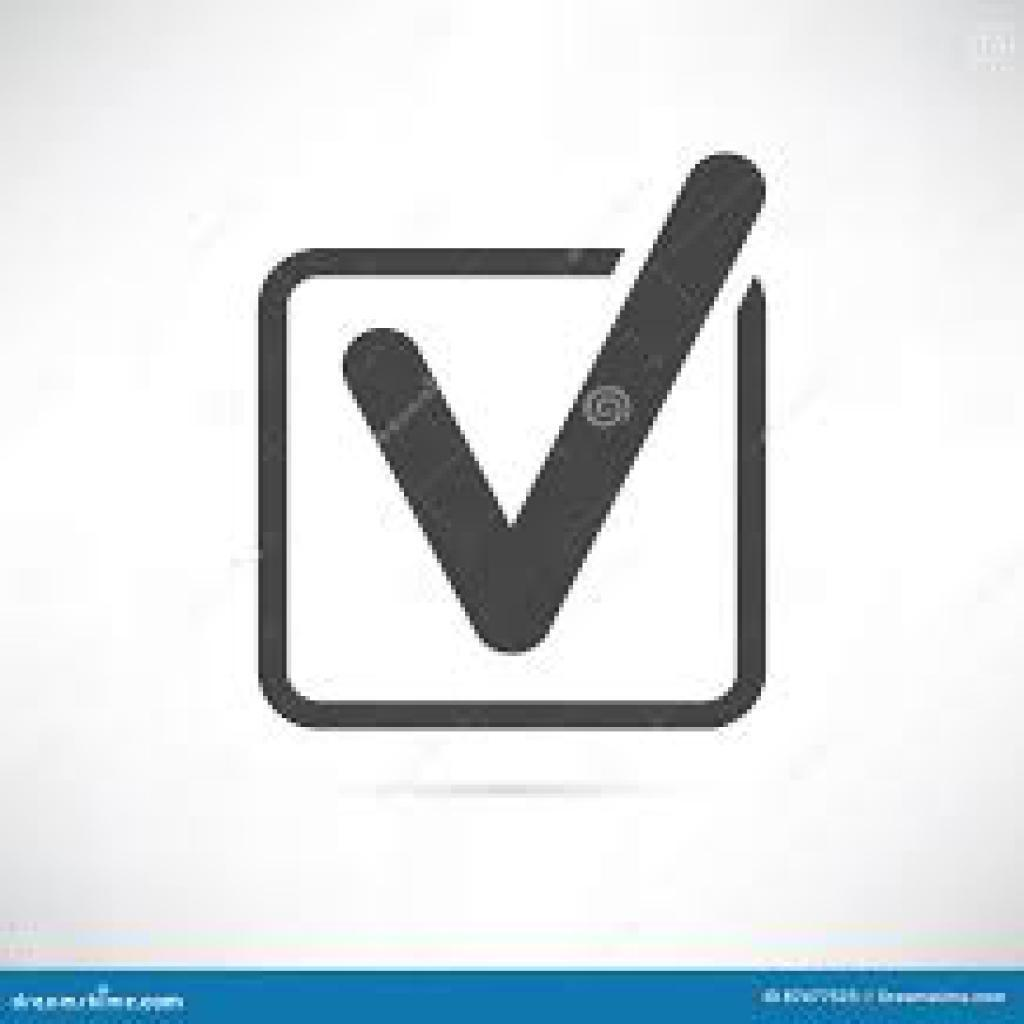checkbox: (271, 265, 756, 715)
